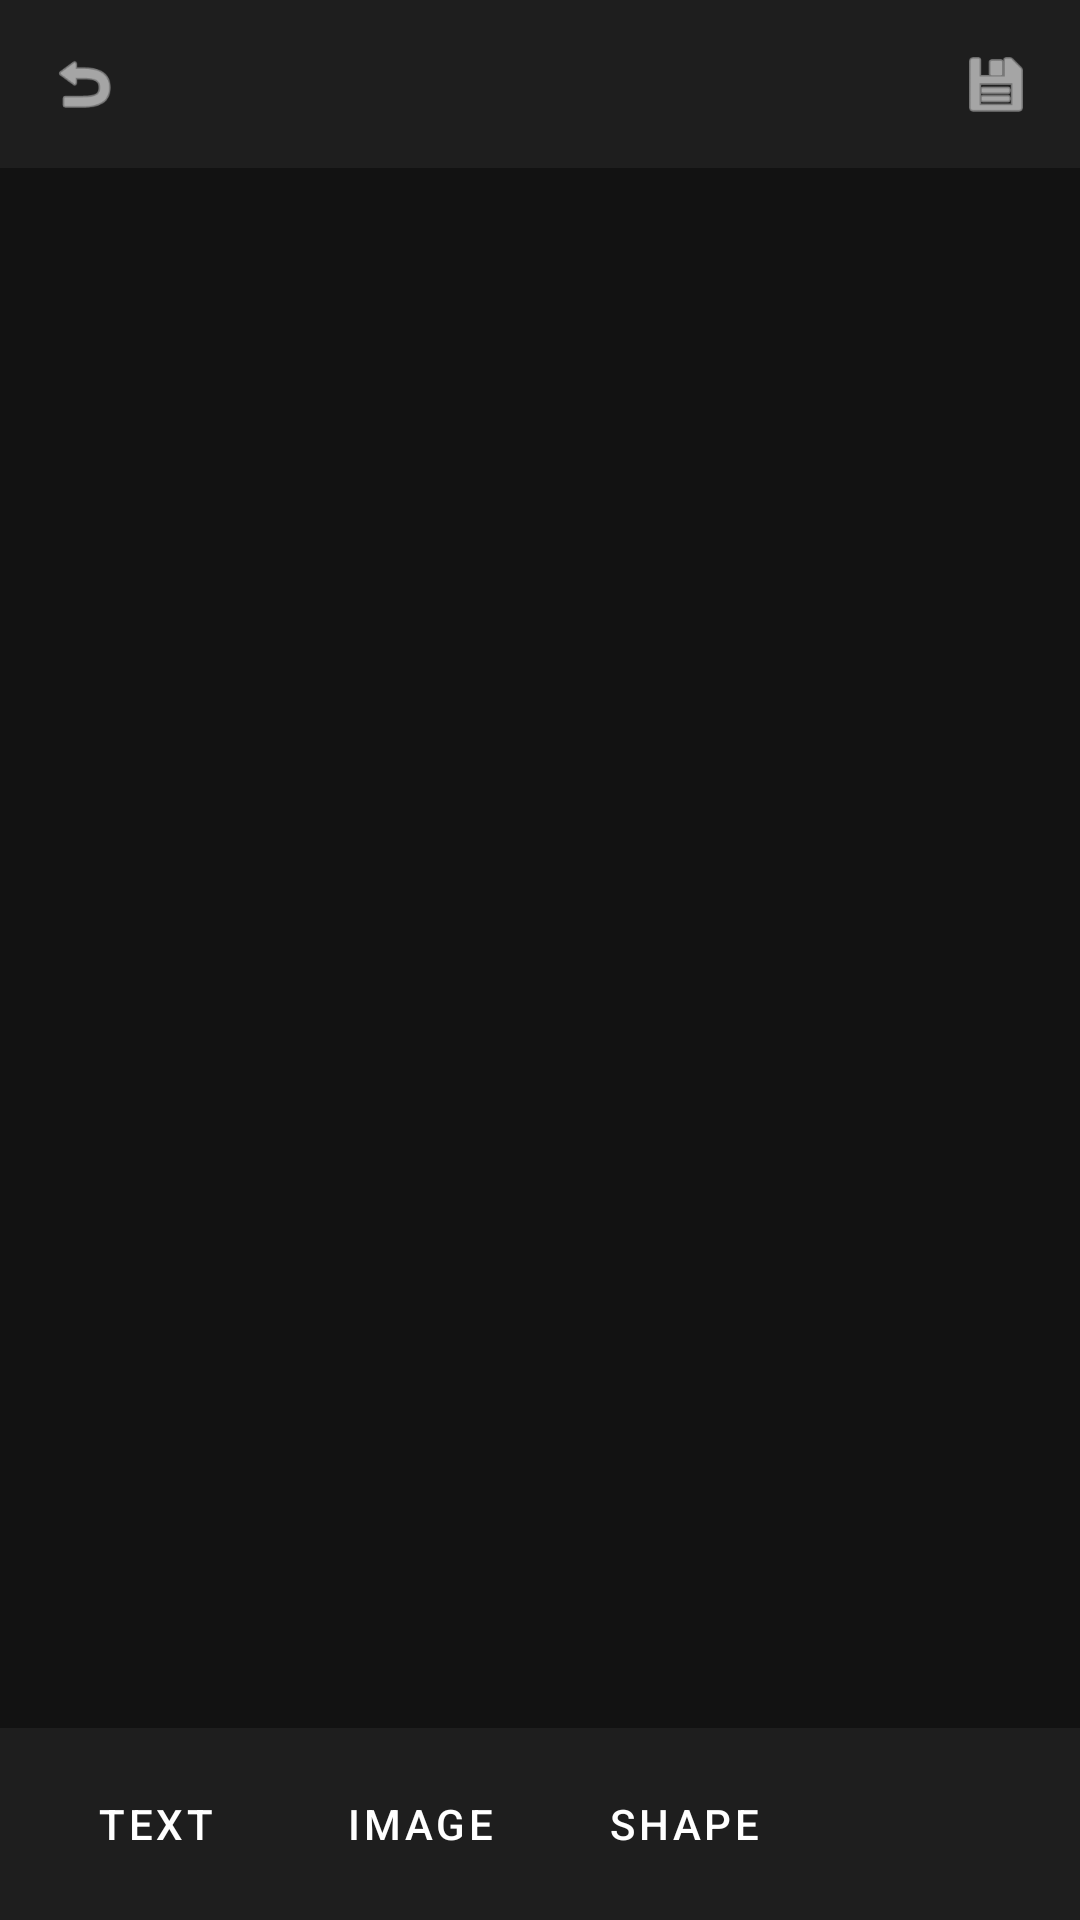

Icons on this 1080x1920 Android screen, each with its box as {"x1": x1, "y1": y1, "x2": x2, "y2": y2}:
revert: {"x1": 59, "y1": 61, "x2": 111, "y2": 108}
save: {"x1": 969, "y1": 57, "x2": 1023, "y2": 112}
